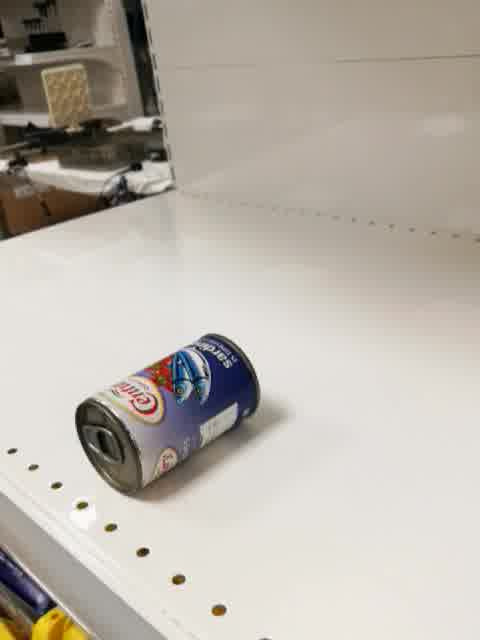sardine: (73, 333, 262, 498)
